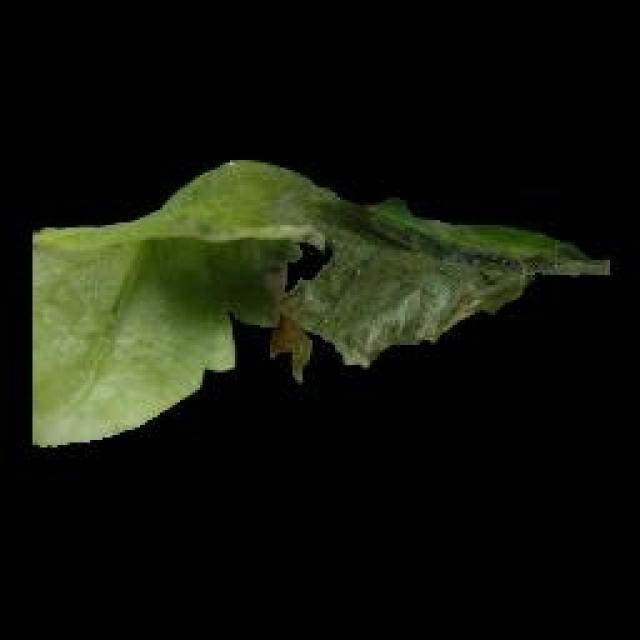Tomato late blight leaf: (35, 154, 610, 453)
